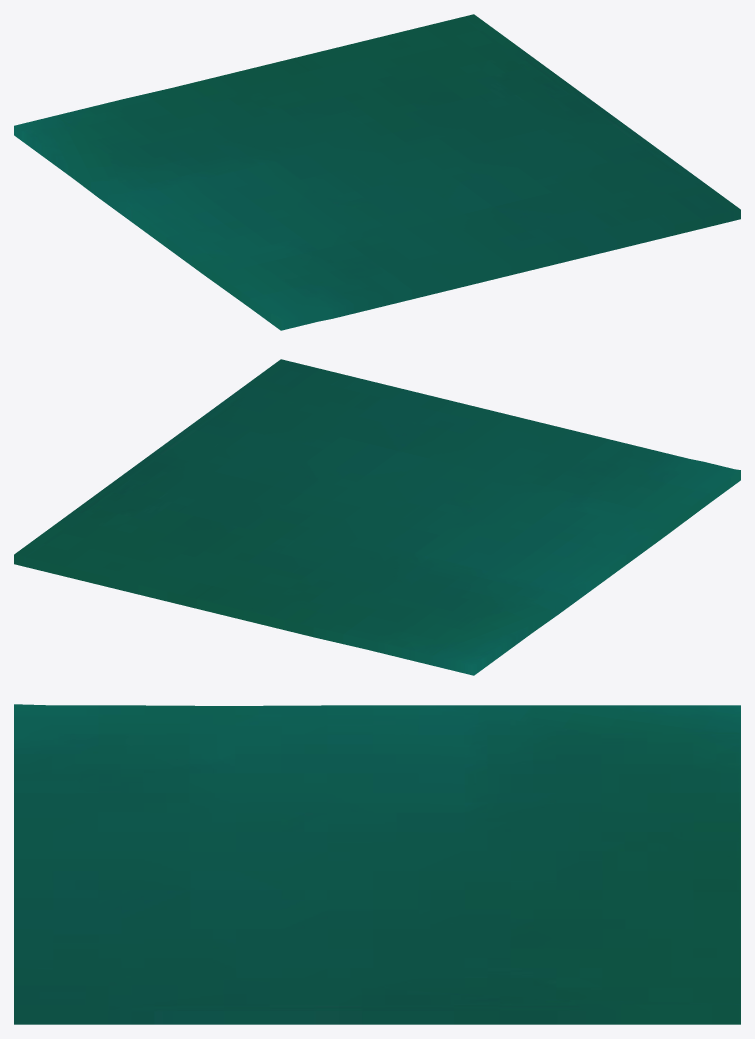
File: z16-10472-25322-h0-yup-uvflip-v3-world.glb
The picture shows the model from 3 angles, top to bottom: view 1: azimuth 30°, elevation 25°; view 2: azimuth 150°, elevation 25°; view 3: azimuth 270°, elevation 25°; orthographic projection. The views are drawn at different scales.
Size of the model in its own units: 483 by 10.88 by 485.
1 material, 1 textured.
